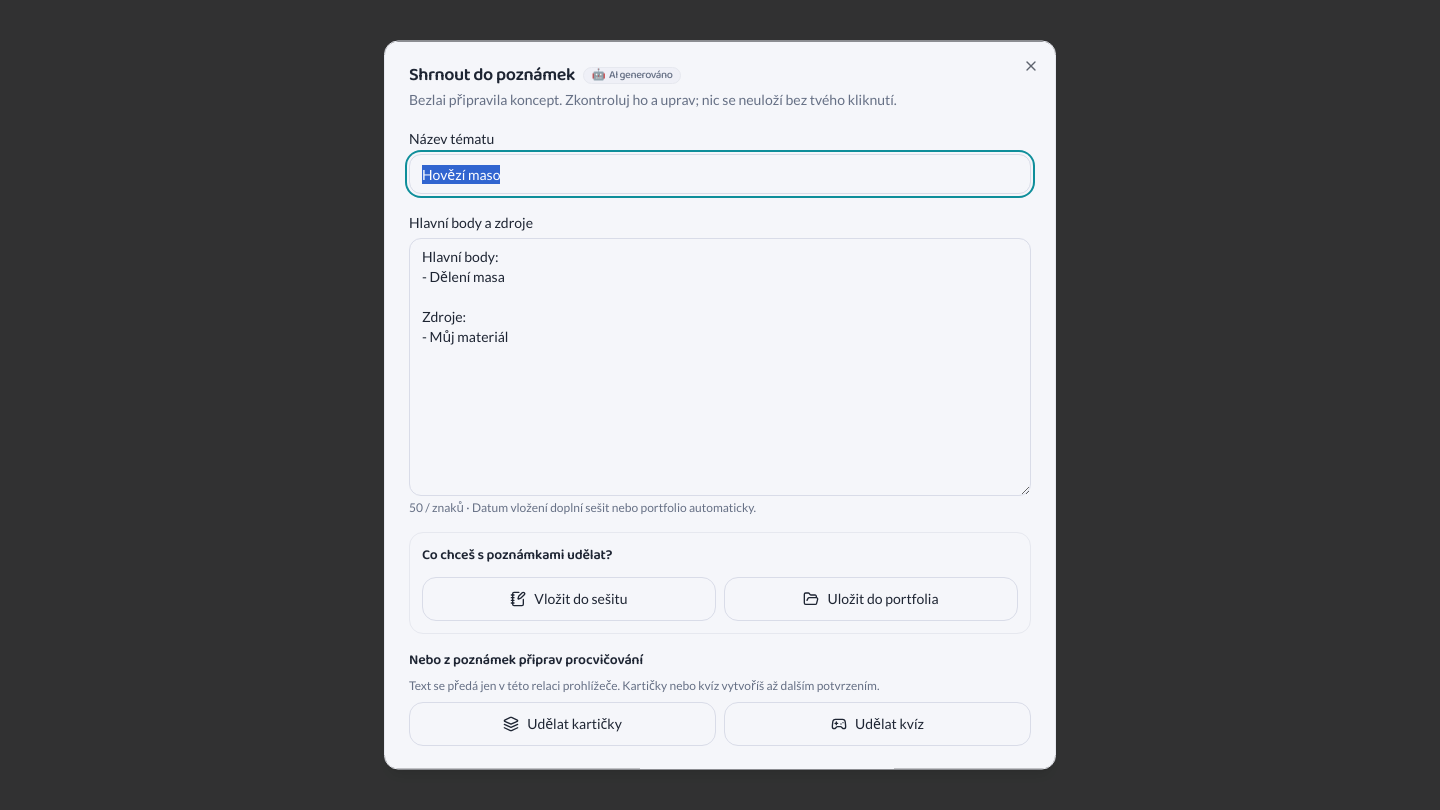
Test: Bezlai – ručně potvrzené uložení poznámek › chyba portfolia nemaže koncept a umožní stejné uložení zopakovat
This screenshot has width=1440, height=810.
Later steps or results of the test are not shown.
What coordinates should you click on to do the following:
click the button "Uložit do portfolia"
I would click on:
 (871, 598)
Its box is x1=724 y1=576 x2=1018 y2=620.
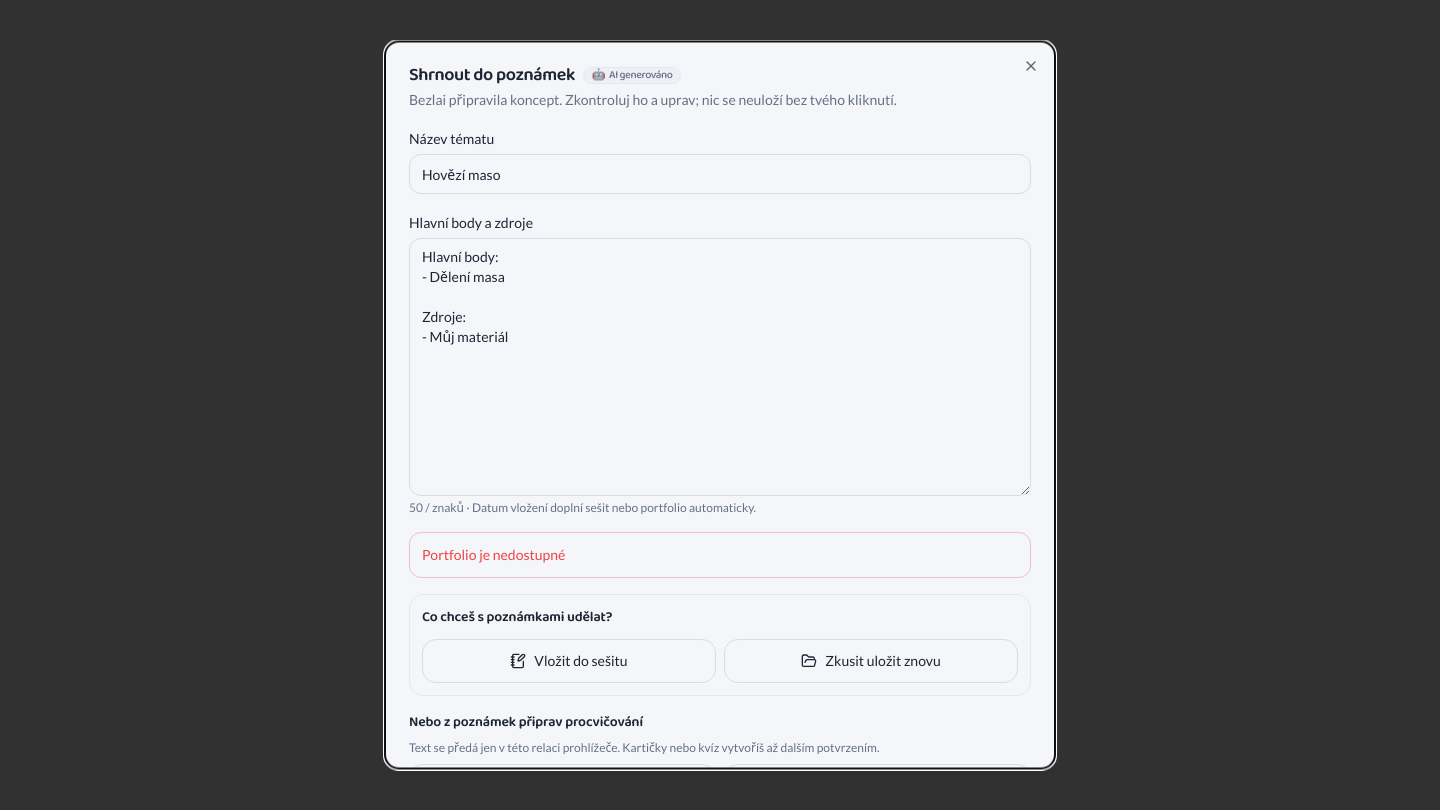
Expected: the message reads "Portfolio je nedostupné", x1=422 y1=546 x2=565 y2=562
